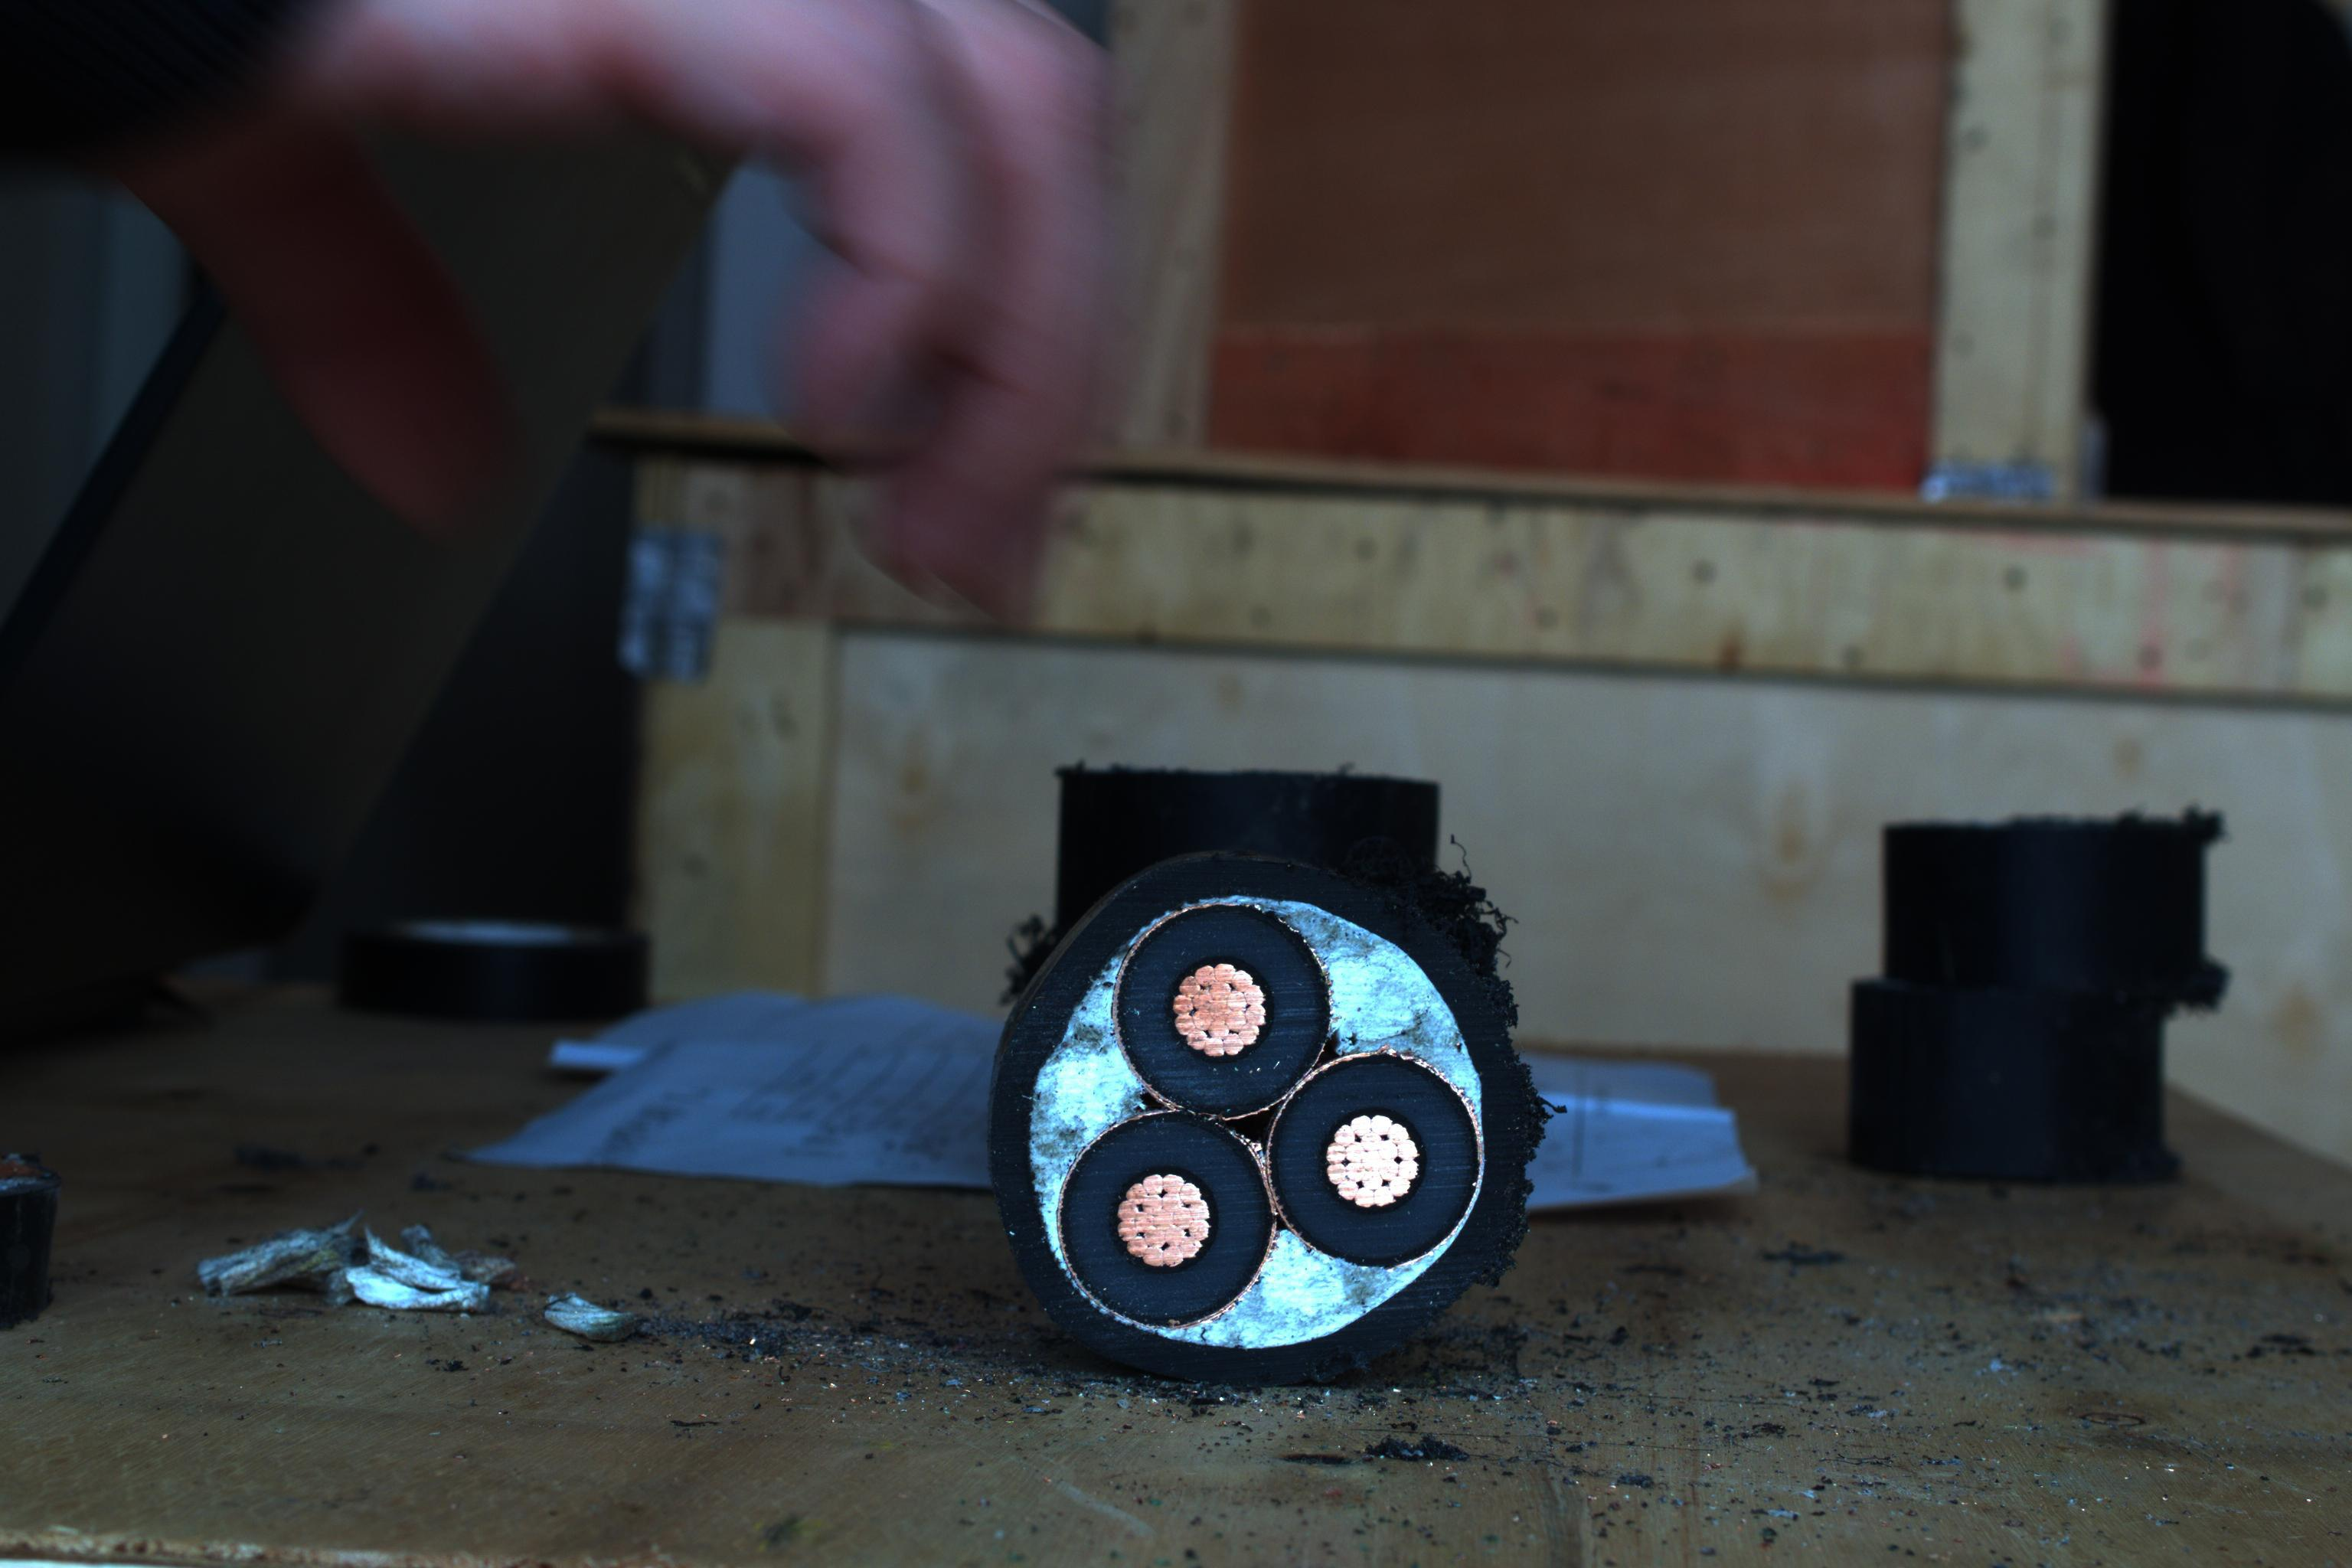YJV_8.7_10kV_3x70: (997, 854, 1528, 1367)
